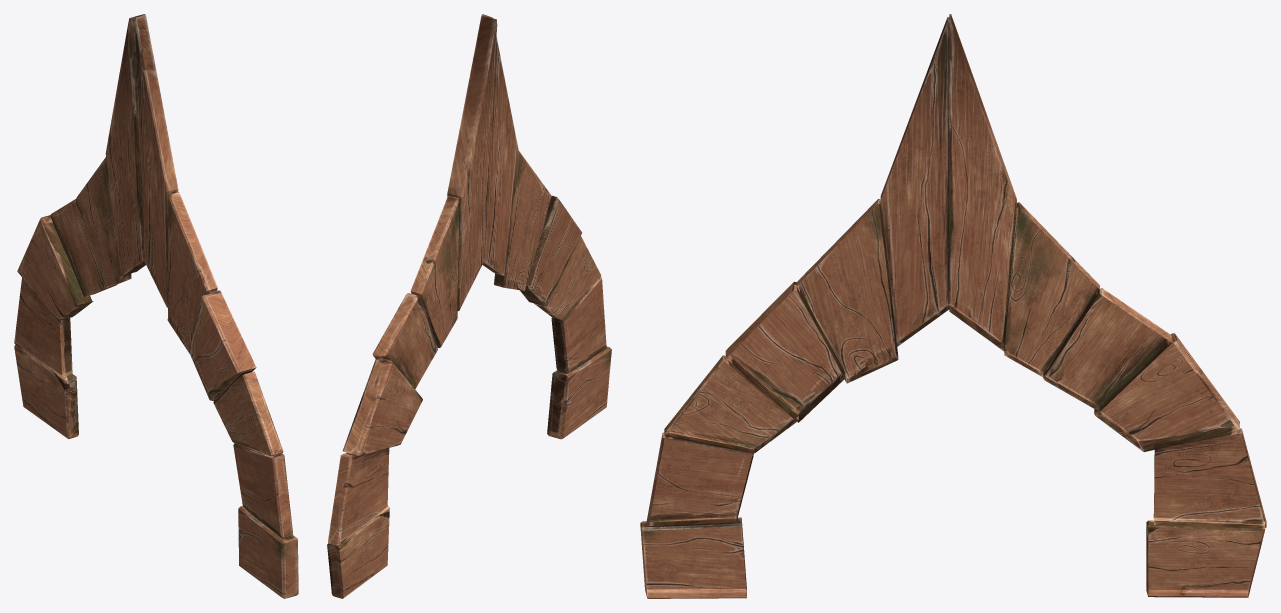
Rendered from SM_Arch.fbx.
3 renders of one model, left to right at view 1: azimuth 30°, elevation 25°; view 2: azimuth 150°, elevation 25°; view 3: azimuth 270°, elevation 25°, orthographic. The views are drawn at different scales.
Parts seen in each view (by area): view 1: SM_Arch_LOD0; view 2: SM_Arch_LOD0; view 3: SM_Arch_LOD0.
Part boxes in pixels (x1=…): SM_Arch_LOD0: x1=14, y1=14, x2=298, y2=598; SM_Arch_LOD0: x1=327, y1=14, x2=611, y2=598; SM_Arch_LOD0: x1=640, y1=14, x2=1266, y2=598.
Bounding box in the file's own units: 41.75 × 506 × 505.
Materials: 1 (1 with a texture image).
